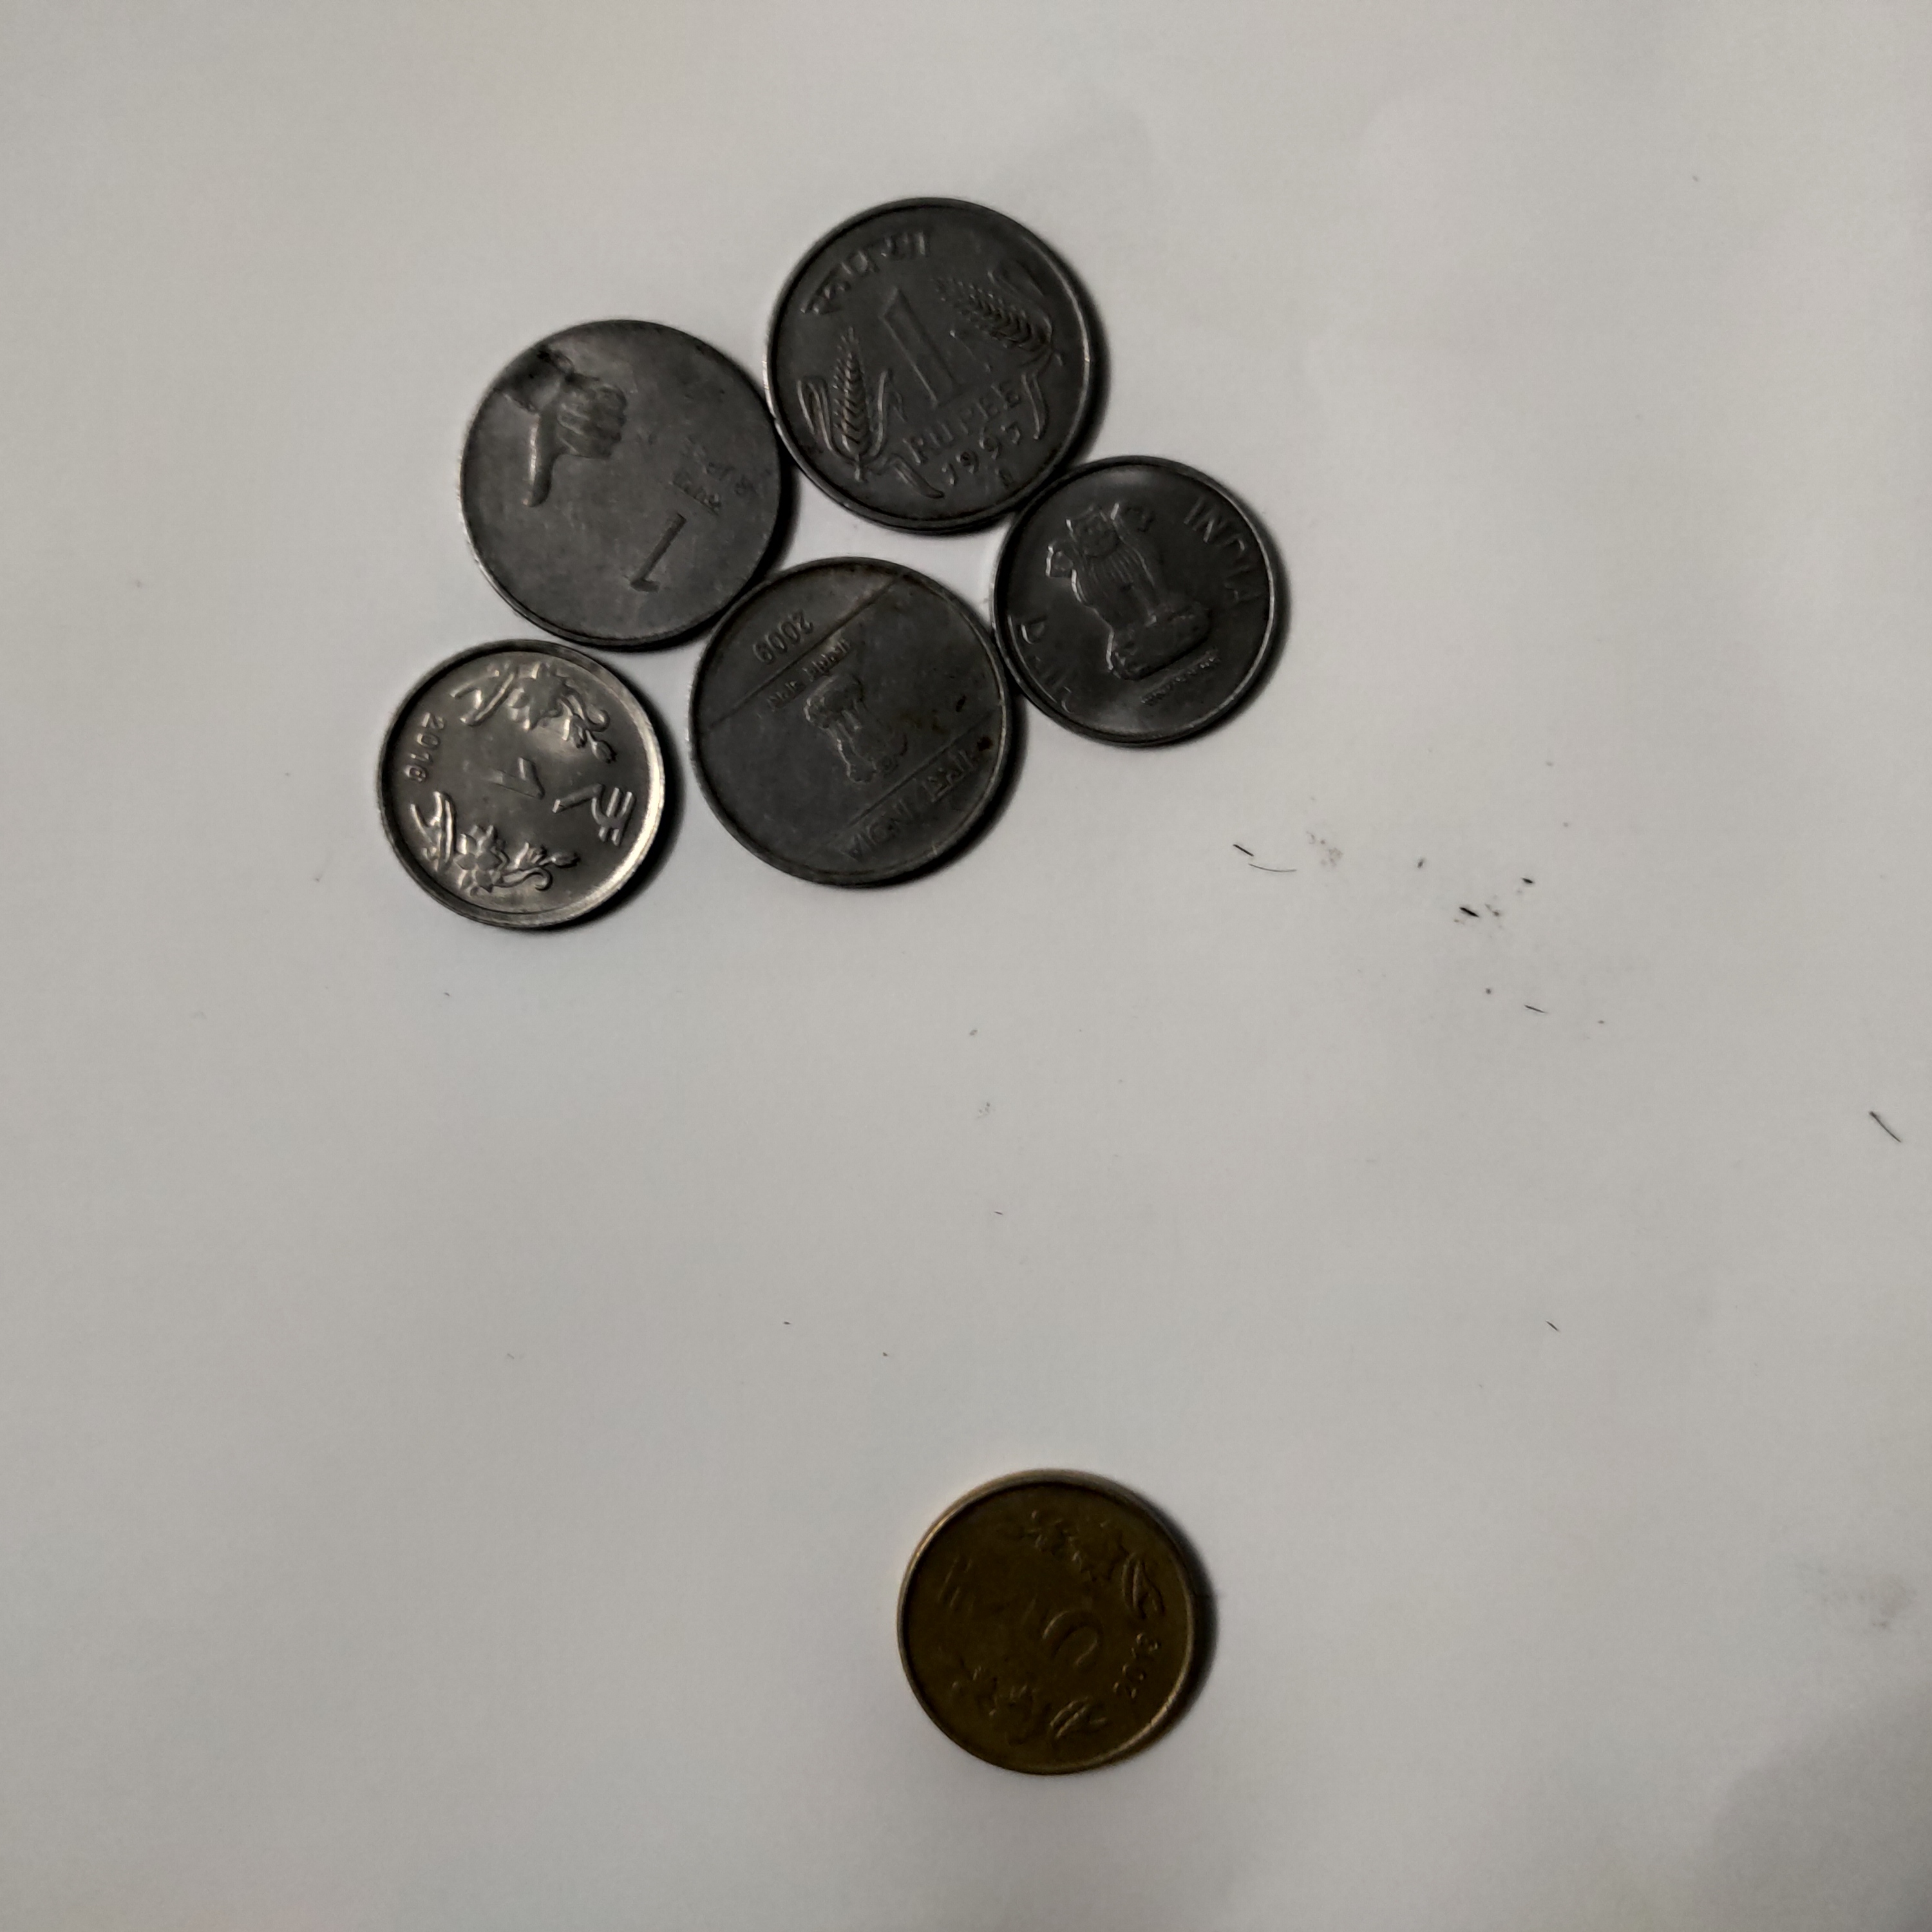coin: (748, 157, 1116, 542), (873, 1462, 1274, 1796), (684, 554, 1054, 899), (439, 311, 802, 645), (362, 643, 690, 932), (981, 465, 1303, 755)
